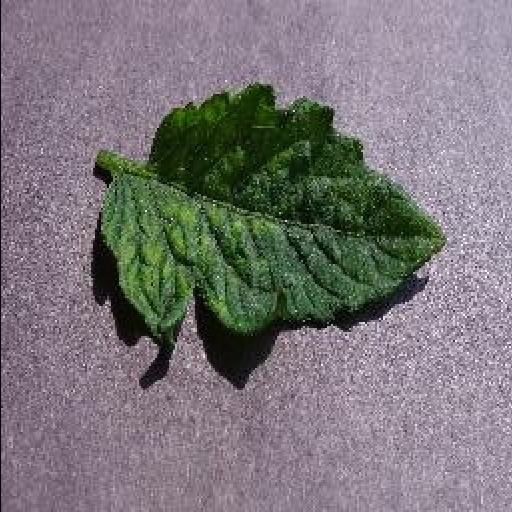disease_tomato: (96, 78, 446, 354)
